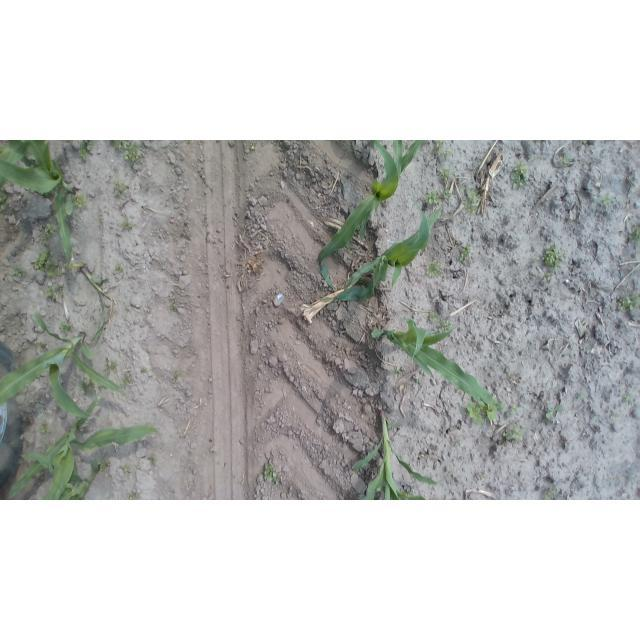Maize: (313, 140, 429, 290), (5, 398, 163, 500), (0, 308, 128, 421), (321, 197, 444, 299), (371, 320, 495, 409), (0, 141, 80, 267), (346, 412, 446, 500), (67, 267, 114, 348), (22, 454, 103, 500)
Weeds: (0, 140, 32, 194), (32, 247, 65, 278), (471, 395, 506, 423), (464, 399, 491, 426), (541, 244, 565, 273), (510, 162, 530, 191), (502, 422, 527, 444), (463, 187, 483, 214), (263, 460, 282, 486), (424, 189, 450, 206), (617, 293, 639, 313), (122, 144, 143, 164), (38, 224, 58, 245), (77, 140, 95, 162), (544, 402, 565, 420), (423, 260, 442, 277), (44, 286, 65, 301), (112, 178, 129, 196), (102, 356, 119, 373), (71, 194, 87, 211), (78, 378, 94, 395), (435, 143, 451, 159), (459, 244, 472, 263), (59, 318, 73, 335), (628, 226, 639, 247), (94, 457, 110, 471), (120, 217, 136, 231), (438, 319, 454, 333), (434, 141, 447, 158), (440, 168, 456, 181), (168, 296, 180, 313), (574, 390, 588, 404), (11, 266, 26, 279), (601, 195, 614, 209), (543, 487, 557, 500), (171, 368, 183, 383), (109, 141, 128, 150), (401, 487, 418, 497), (120, 373, 132, 387), (38, 421, 50, 435), (0, 192, 8, 213), (558, 155, 573, 166), (147, 454, 159, 467), (509, 404, 521, 416), (126, 491, 142, 500), (391, 368, 404, 379), (122, 465, 135, 476), (623, 394, 634, 406), (542, 273, 556, 282), (428, 311, 439, 322), (140, 365, 152, 375), (44, 188, 57, 197), (114, 263, 124, 274), (442, 149, 452, 160), (30, 156, 39, 168), (455, 438, 466, 447), (248, 143, 257, 152), (345, 243, 356, 250), (414, 377, 423, 385), (610, 412, 619, 420), (478, 472, 487, 480), (579, 141, 589, 146), (98, 383, 105, 389), (509, 372, 516, 378), (533, 258, 539, 263), (461, 184, 465, 190), (98, 220, 102, 225), (38, 345, 42, 348)
